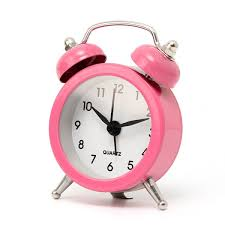alarm_clock: (45, 70, 188, 186)
